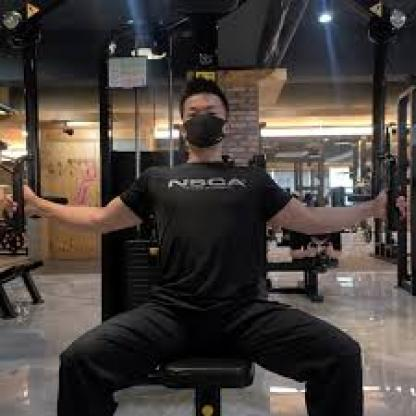chest fly machine: (2, 3, 416, 416)
